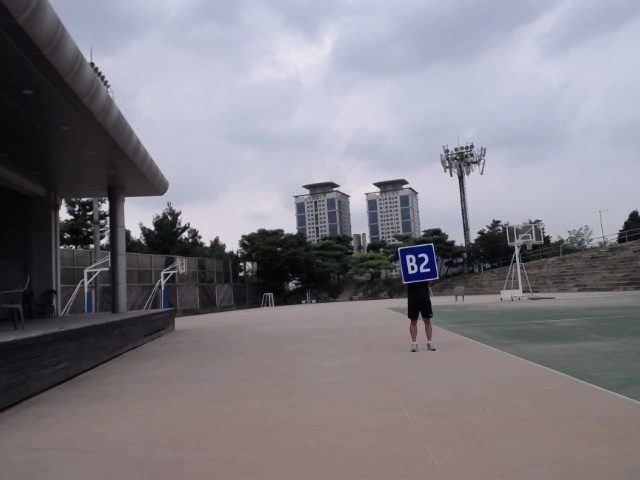delivery_b2: (397, 243, 440, 284)
